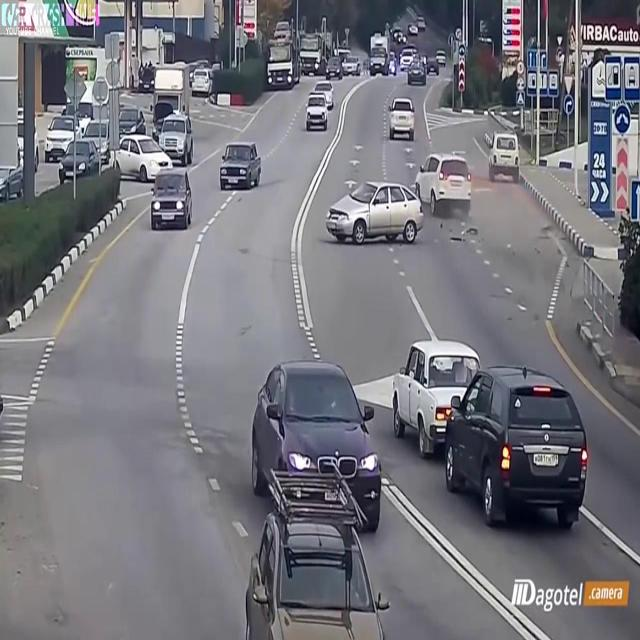accident: (323, 149, 485, 255)
non_accident: (240, 354, 393, 640), (390, 324, 592, 540), (41, 59, 200, 237)
